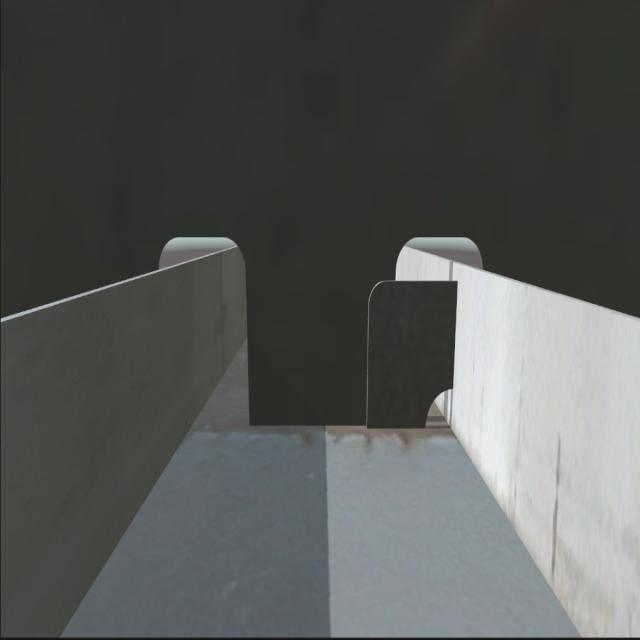fillet_hole: (425, 390, 452, 430)
fillet_yong_jeop_jang: (246, 416, 429, 435)
longi_yong_jeop_jang: (446, 272, 462, 388)
plate_CP05: (366, 282, 456, 428)
